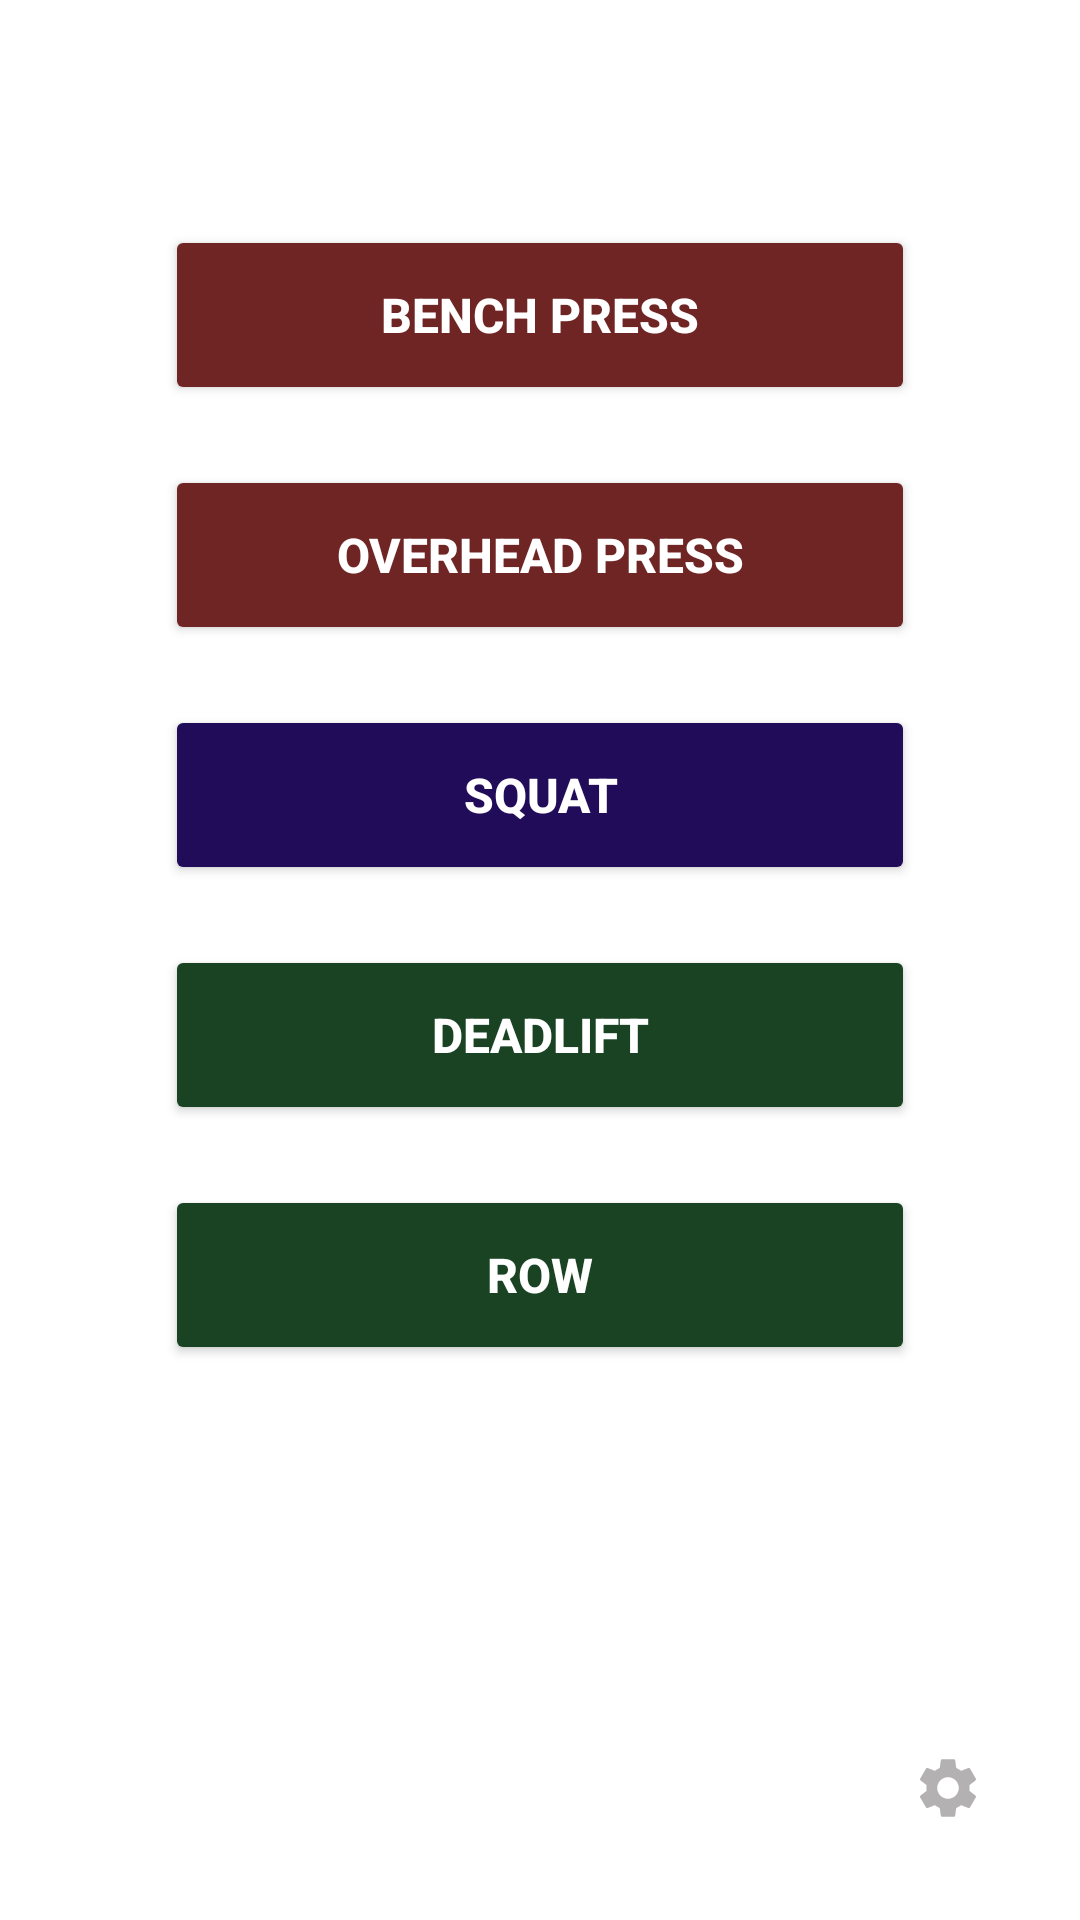

Screen size 1080x1920. Icon name, then its center in pixels as (x=x, y=y):
Settings: (x=948, y=1788)
